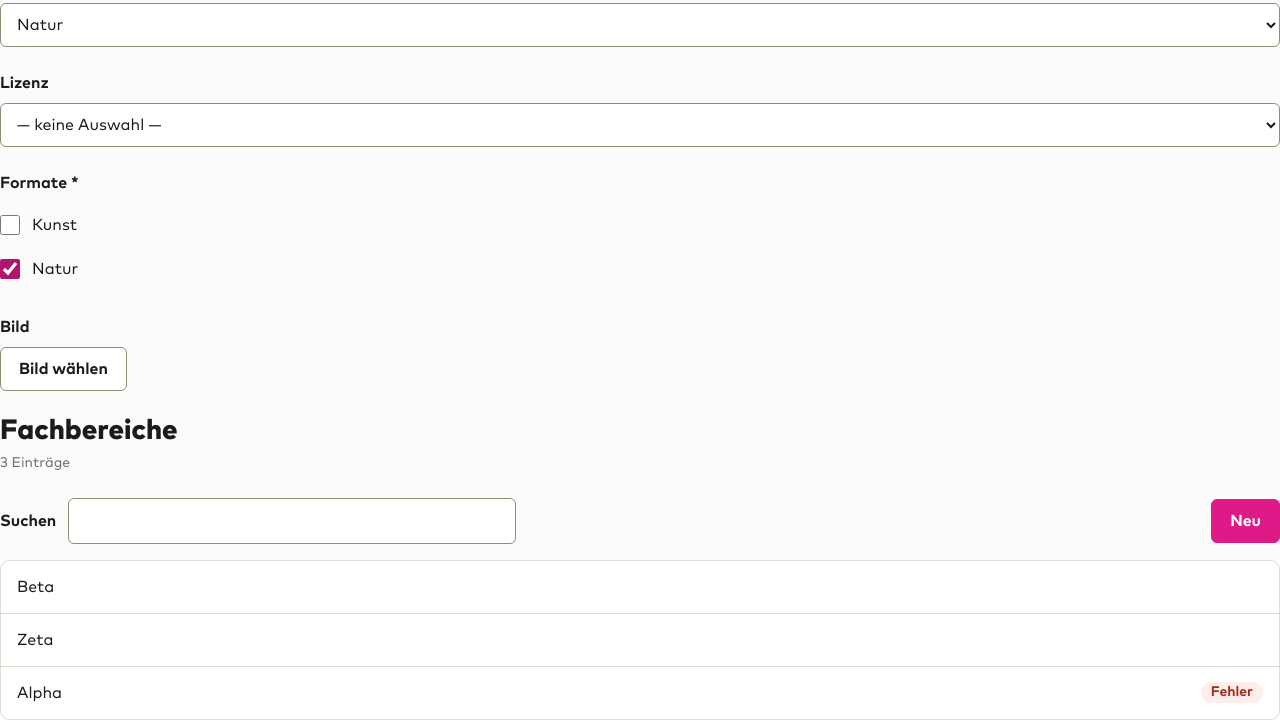
Test: CollectionView › offener Eintrag verschwindet (von jemand anderem geloescht): Formular zu, Hinweis
Later steps or results of the test are not shown.
(page scrolled)
Click the button "Alpha Fehler": (40, 693) [1,667,1279,719]
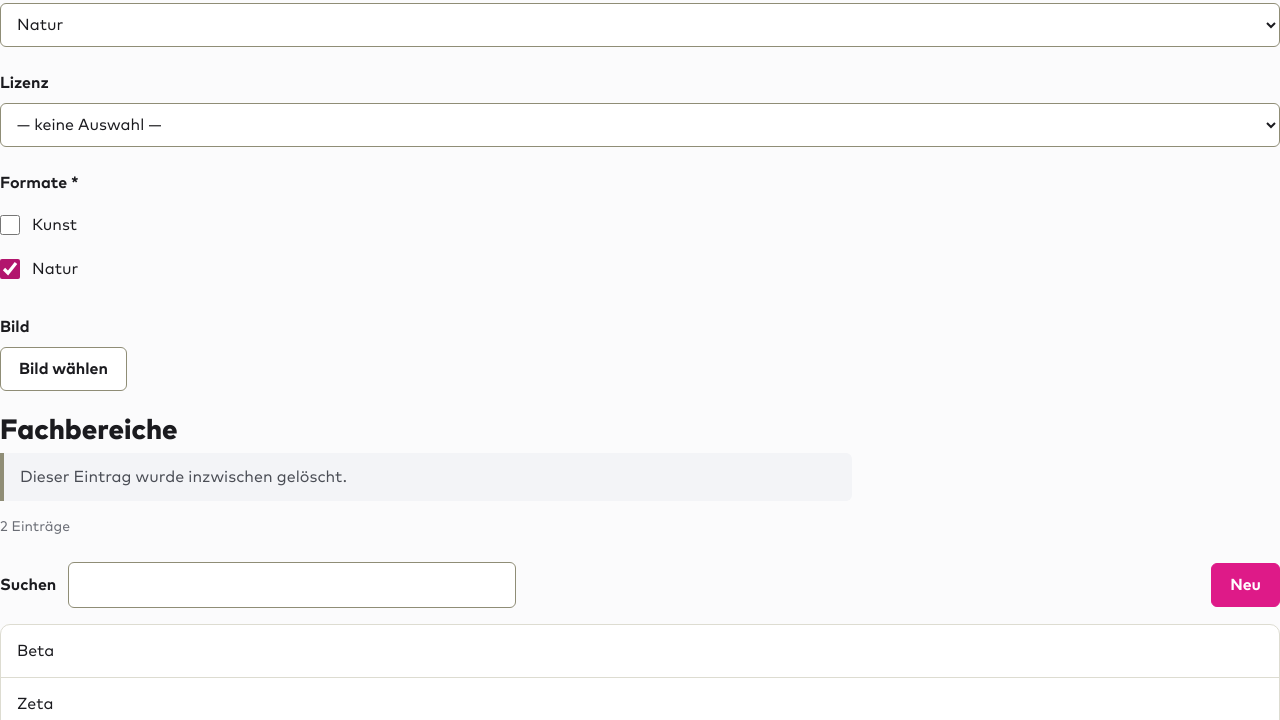
Expected: the message "Dieser Eintrag wurde inzwischen gelöscht." is shown, [0,453,852,501]
